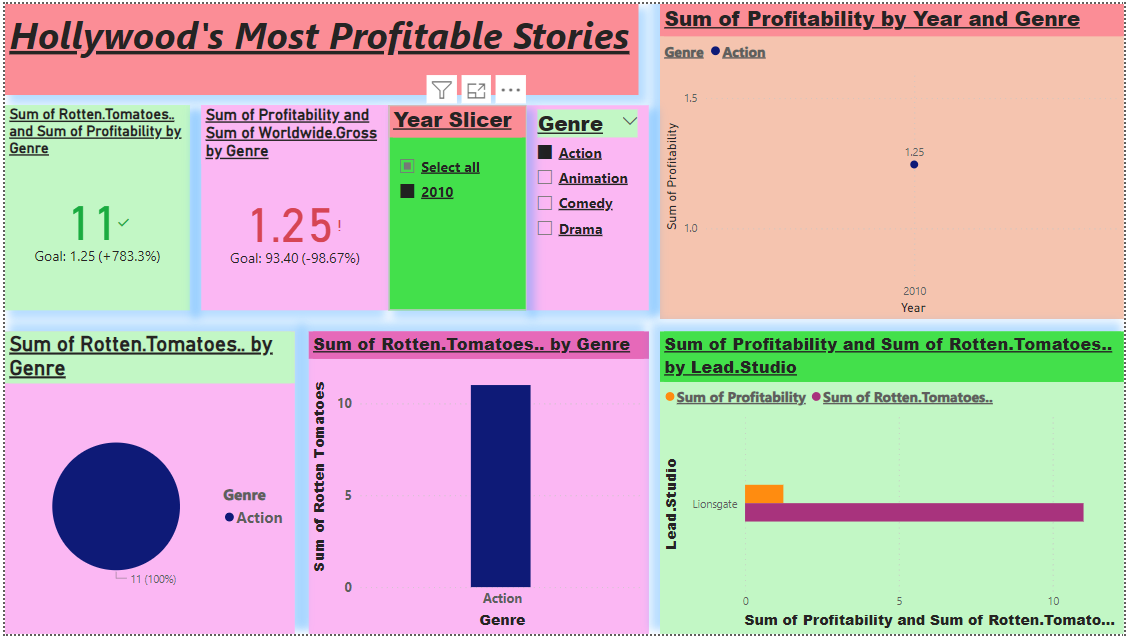

What the dashboard file says about the page in this screenshot:
{"tool":"powerbi","page":{"name":"Hollywoods Most Profitable Stories","canvas":[1280,720],"ordinal":0},"visuals":[{"type":"clusteredColumnChart","fields":{"Category":["clean_df.Genre"],"Y":["Sum(clean_df.Rotten.Tomatoes..)"]},"box":[347.1,374.3,388.6,345.7],"z":0},{"type":"lineChart","fields":{"Category":["clean_df.Year"],"Y":["Sum(clean_df.Profitability)"],"Series":["clean_df.Genre"]},"box":[748.6,0,531.4,360],"z":1},{"type":"textbox","box":[0,0,724.3,104.3],"z":2},{"type":"pieChart","fields":{"Series":["clean_df.Genre"],"Y":["Sum(clean_df.Rotten.Tomatoes..)"]},"box":[0,374.3,331.4,345.7],"z":3},{"type":"slicer","fields":{"Values":["clean_df.Genre"]},"box":[595.7,115.7,140,234.3],"z":4},{"type":"slicer","title":"Year Slicer","fields":{"Values":["clean_df.Year"]},"box":[438.6,115.7,157.1,234.3],"z":5},{"type":"kpi","fields":{"Indicator":["Sum(clean_df.Rotten.Tomatoes..)"],"Goal":["Sum(clean_df.Profitability)"],"TrendLine":["clean_df.Genre"]},"box":[0,115.7,211.4,234.3],"z":6},{"type":"kpi","fields":{"TrendLine":["clean_df.Genre"],"Indicator":["Sum(clean_df.Profitability)"],"Goal":["Sum(clean_df.Worldwide.Gross)"]},"box":[224.3,115.7,214.3,234.3],"z":7},{"type":"clusteredBarChart","fields":{"Category":["clean_df.Lead.Studio"],"Y":["Sum(clean_df.Profitability)","Sum(clean_df.Rotten.Tomatoes..)"]},"box":[748.6,374.3,531.4,345.7],"z":8}]}

Visuals, with their boxes in screenshot pixels (x1, y1, x2, y2), scaled from the page's 1280x720 canvas onto the 1127x640 screenshot:
clusteredColumnChart - clean_df.Genre x Sum(clean_df.Rotten.Tomatoes..): (x1=306, y1=333, x2=648, y2=639)
lineChart - clean_df.Year x Sum(clean_df.Profitability): (x1=659, y1=0, x2=1126, y2=320)
textbox: (x1=0, y1=0, x2=638, y2=93)
pieChart - clean_df.Genre x Sum(clean_df.Rotten.Tomatoes..): (x1=0, y1=333, x2=292, y2=639)
slicer - clean_df.Genre: (x1=524, y1=103, x2=648, y2=311)
"Year Slicer" slicer: (x1=386, y1=103, x2=524, y2=311)
kpi - Sum(clean_df.Rotten.Tomatoes..) x Sum(clean_df.Profitability): (x1=0, y1=103, x2=186, y2=311)
kpi - clean_df.Genre x Sum(clean_df.Profitability): (x1=197, y1=103, x2=386, y2=311)
clusteredBarChart - clean_df.Lead.Studio x Sum(clean_df.Profitability): (x1=659, y1=333, x2=1126, y2=639)
